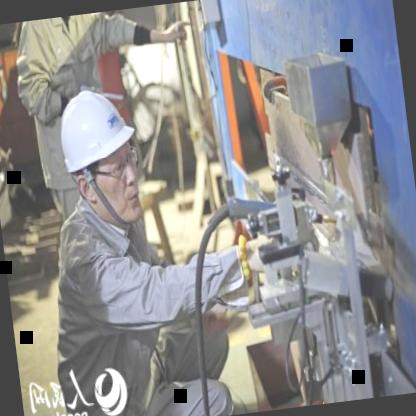helmet: (43, 67, 155, 239)
